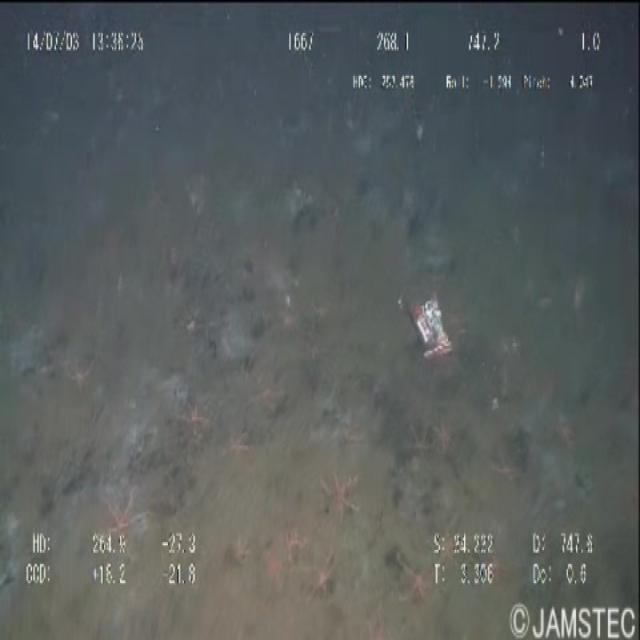Litter: (407, 284, 464, 383)
